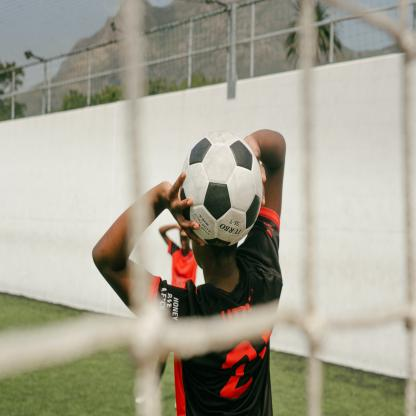ball: (182, 130, 263, 244)
